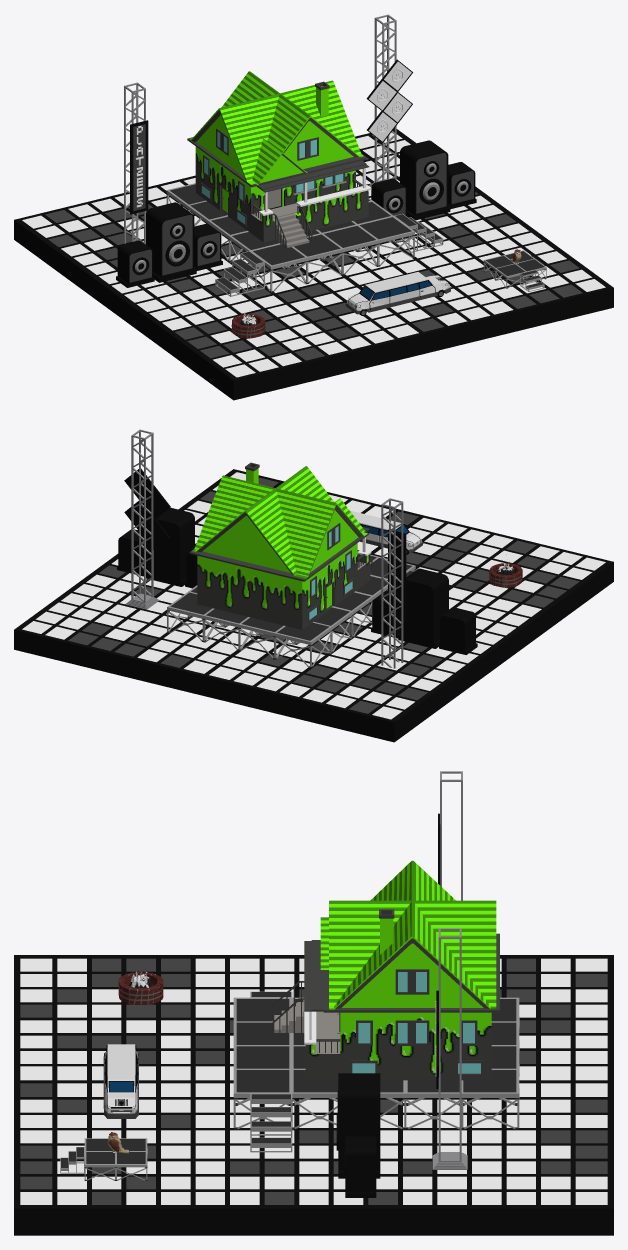
The picture shows the model from 3 angles, top to bottom: view 1: azimuth 30°, elevation 25°; view 2: azimuth 150°, elevation 25°; view 3: azimuth 270°, elevation 25°; orthographic projection. The views are drawn at different scales.
Visible parts, largest first — view 1: Cube.008, Cube.754, VEHICLES_LIMOUSINE, OBJRANDOM_CAMPFIRE; view 2: Cube.008, Cube.754, VEHICLES_LIMOUSINE, OBJRANDOM_CAMPFIRE; view 3: Cube.008, Cube.754, VEHICLES_LIMOUSINE, OBJRANDOM_CAMPFIRE.
Part boxes in pixels (box(x1,y1,x2,y2)): Cube.008: box(14, 14, 613, 400); Cube.754: box(187, 71, 371, 248); VEHICLES_LIMOUSINE: box(345, 272, 450, 315); OBJRANDOM_CAMPFIRE: box(231, 312, 265, 338); Cube.008: box(14, 429, 613, 742); Cube.754: box(189, 462, 372, 629); VEHICLES_LIMOUSINE: box(350, 510, 423, 554); OBJRANDOM_CAMPFIRE: box(489, 562, 522, 587); Cube.008: box(14, 771, 613, 1235); Cube.754: box(272, 860, 499, 1080); VEHICLES_LIMOUSINE: box(103, 1044, 138, 1118); OBJRANDOM_CAMPFIRE: box(118, 968, 163, 1004).
Bounding box in the file's own units: 4000 × 1975 × 4000.
Materials: 38 (2 with a texture image).
